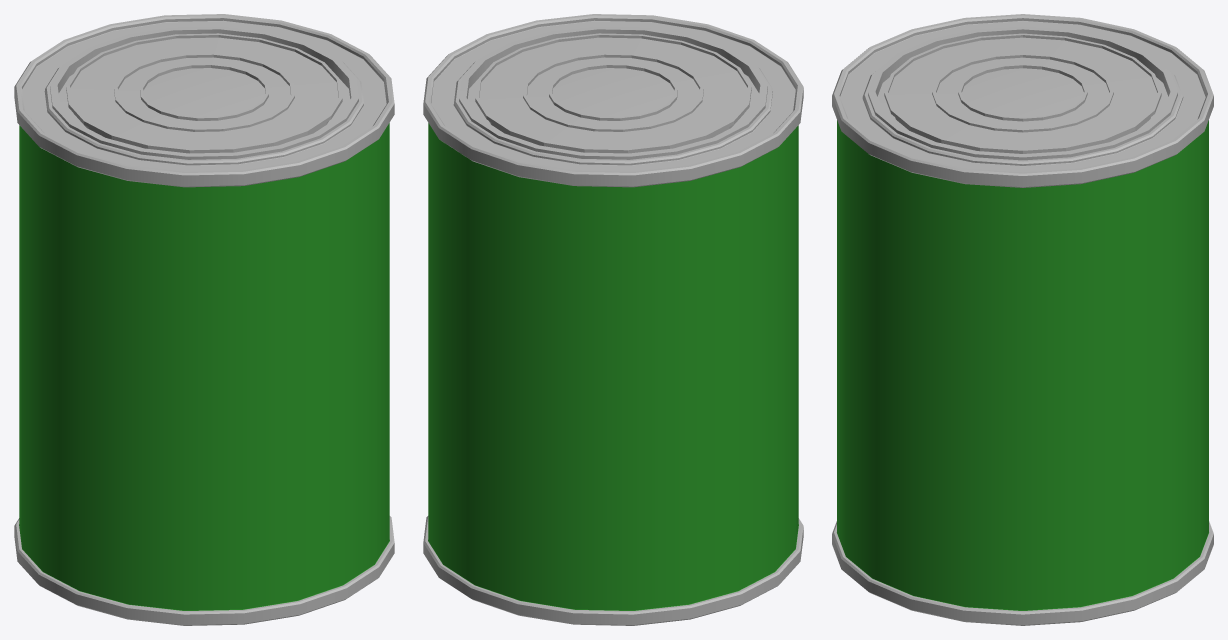
The model's file is PaintBucket.fbx.
3 views of the same model, side by side, from view 1: azimuth 30°, elevation 25°; view 2: azimuth 150°, elevation 25°; view 3: azimuth 270°, elevation 25° (orthographic).
Parts seen in each view (by area): view 1: pCylinder1, pCylinder3; view 2: pCylinder1, pCylinder3; view 3: pCylinder1, pCylinder3.
Part boxes in pixels (x1,y1,x2,y2): pCylinder1: (14,14,394,625); pCylinder3: (50,26,358,159); pCylinder1: (423,14,803,625); pCylinder3: (459,26,767,159); pCylinder1: (832,14,1213,625); pCylinder3: (868,26,1177,160).
Bounding box in the file's own units: 2.96 × 3.88 × 2.96.
